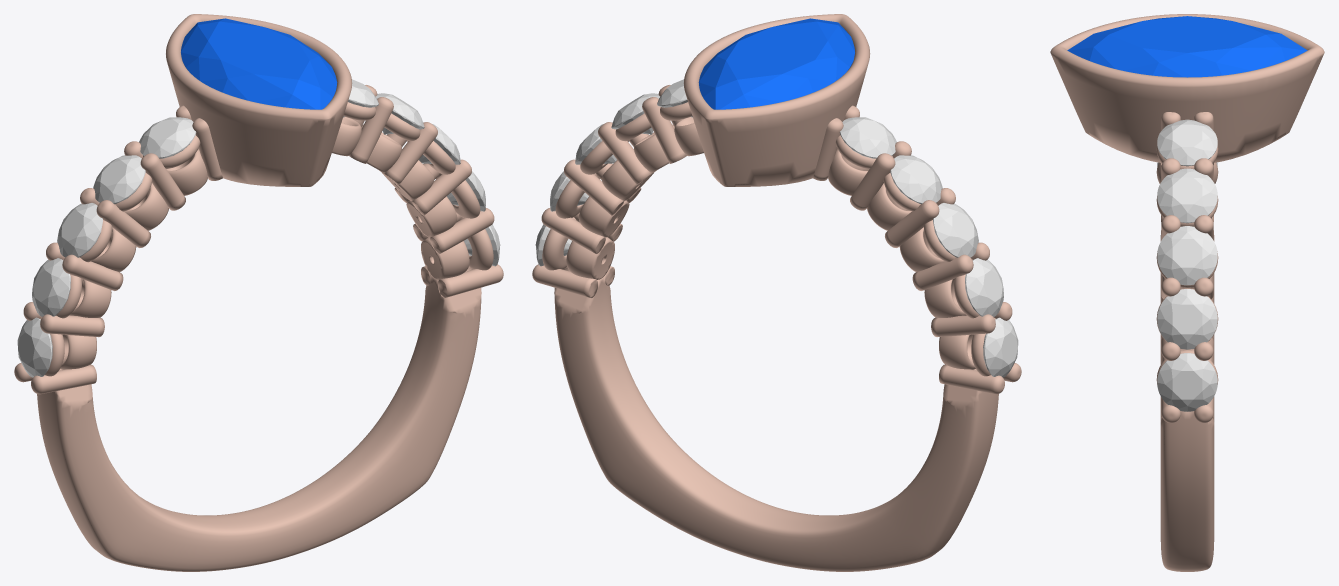
The model's file is bluesapphire-marquise-rosegold-bezelset-europeanshank-11stone.glb.
3 renders of one model, left to right at view 1: azimuth 30°, elevation 25°; view 2: azimuth 150°, elevation 25°; view 3: azimuth 270°, elevation 25°, orthographic.
Parts seen in each view (by area): view 1: metal.002, stone.002, dia.024, dia.025, dia.023, dia.026, dia.002, dia.030; view 2: metal.002, stone.002, dia.024, dia.025, dia.023, dia.026, dia.002, dia.030; view 3: metal.002, stone.002, dia.028, dia.029, dia.027, dia.030, dia.031.
Part boxes in pixels (bbox=[...]): metal.002: bbox=[14, 14, 503, 571]; stone.002: bbox=[181, 18, 337, 109]; dia.024: bbox=[57, 203, 102, 257]; dia.025: bbox=[93, 155, 145, 204]; dia.023: bbox=[32, 258, 70, 316]; dia.026: bbox=[139, 117, 196, 158]; dia.002: bbox=[17, 317, 52, 377]; dia.030: bbox=[376, 93, 424, 134]; metal.002: bbox=[532, 14, 1021, 571]; stone.002: bbox=[698, 18, 854, 109]; dia.024: bbox=[933, 203, 978, 257]; dia.025: bbox=[890, 155, 942, 204]; dia.023: bbox=[965, 258, 1003, 316]; dia.026: bbox=[839, 117, 896, 158]; dia.002: bbox=[983, 317, 1018, 377]; dia.030: bbox=[611, 93, 659, 134]; metal.002: bbox=[1050, 14, 1324, 571]; stone.002: bbox=[1067, 16, 1307, 77]; dia.028: bbox=[1157, 289, 1217, 349]; dia.029: bbox=[1157, 226, 1217, 285]; dia.027: bbox=[1157, 353, 1217, 411]; dia.030: bbox=[1157, 168, 1217, 223]; dia.031: bbox=[1157, 119, 1217, 166].
Bounding box in the file's own units: 22.1 × 22.73 × 11.31.
